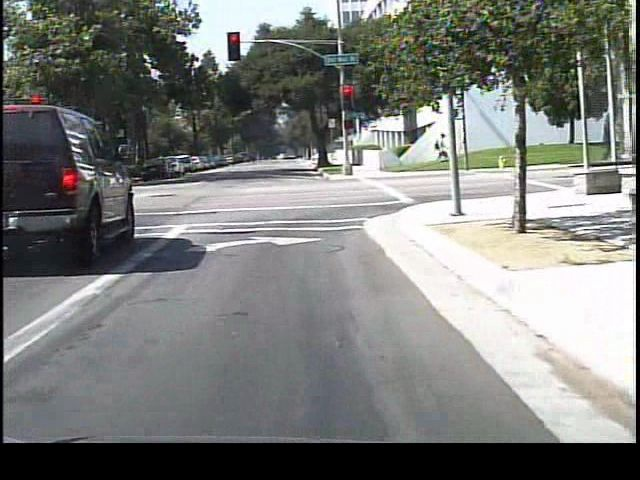person: (429, 127, 450, 160)
